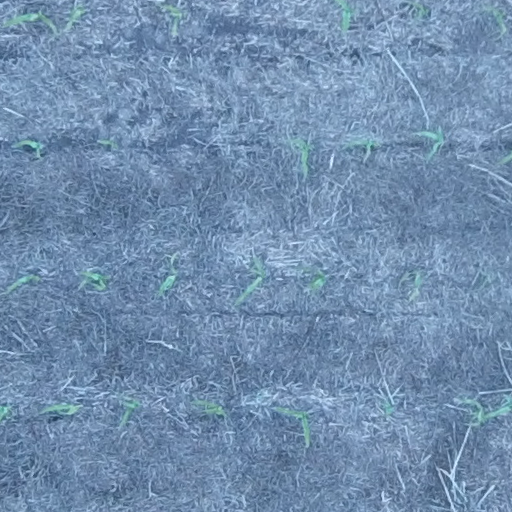planta: (234, 254, 265, 305), (275, 406, 311, 445), (4, 12, 59, 32), (286, 136, 313, 175), (159, 3, 184, 38), (483, 6, 508, 38), (296, 264, 325, 291), (156, 260, 177, 297), (419, 129, 444, 159), (8, 273, 43, 293), (460, 397, 486, 423), (80, 270, 111, 290), (119, 399, 140, 425), (67, 2, 87, 29), (191, 399, 224, 415), (42, 403, 79, 415), (345, 138, 377, 150), (12, 137, 41, 150), (411, 1, 429, 19), (95, 136, 117, 148)
